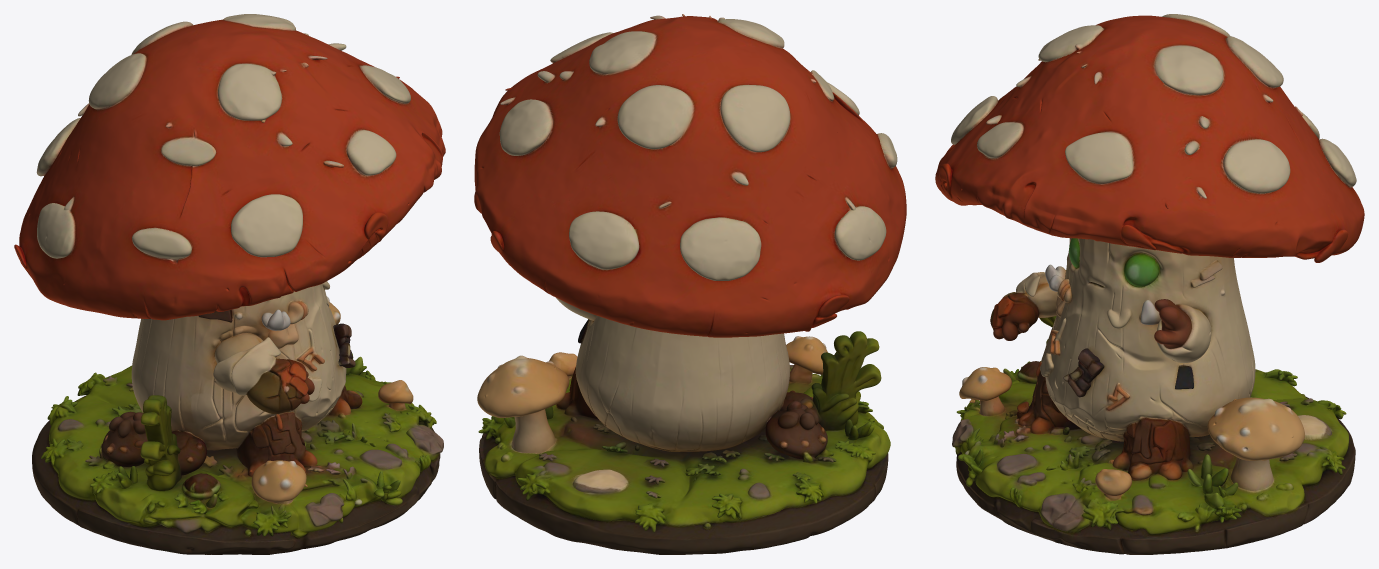
Rendered from tripo_convert_b7338a0c-1a23-4189-86bc-51911539a2a7.glb.
The picture shows the model from 3 angles, left to right: view 1: azimuth 30°, elevation 25°; view 2: azimuth 150°, elevation 25°; view 3: azimuth 270°, elevation 25°; orthographic projection.
Visible parts, largest first — view 1: tripo_node_b7338a0c-1a23-4189-86bc-51911539a2a7; view 2: tripo_node_b7338a0c-1a23-4189-86bc-51911539a2a7; view 3: tripo_node_b7338a0c-1a23-4189-86bc-51911539a2a7.
Part boxes in pixels (box(x1,y1,x2,y2)): tripo_node_b7338a0c-1a23-4189-86bc-51911539a2a7: box(14, 14, 445, 554); tripo_node_b7338a0c-1a23-4189-86bc-51911539a2a7: box(474, 14, 906, 554); tripo_node_b7338a0c-1a23-4189-86bc-51911539a2a7: box(935, 14, 1364, 554).
Bounding box in the file's own units: 0.8834 × 1 × 0.8879.
1 material, 1 textured.
